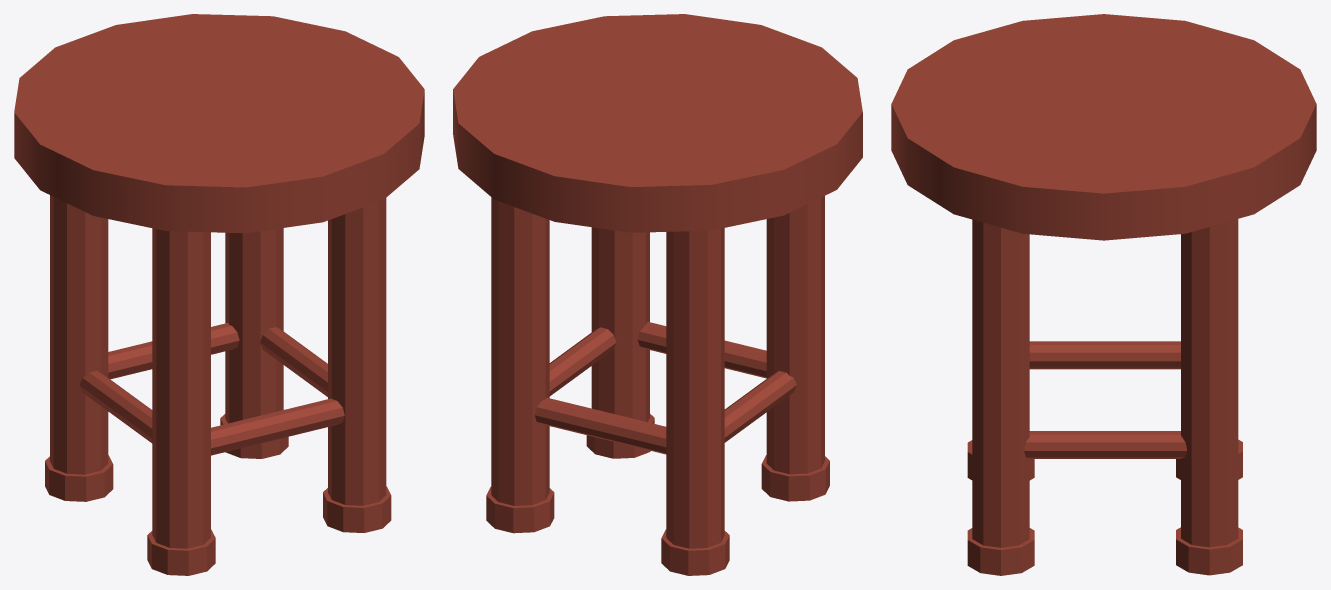
The model's file is Tabouret.glb.
The picture shows the model from 3 angles, left to right: view 1: azimuth 30°, elevation 25°; view 2: azimuth 150°, elevation 25°; view 3: azimuth 270°, elevation 25°; orthographic projection. The views are drawn at different scales.
Visible parts, largest first — view 1: Cylinder007; view 2: Cylinder007; view 3: Cylinder007.
Boxes of the visible parts, x1,y1,x2,y2 form: Cylinder007: (14, 14, 424, 575); Cylinder007: (453, 14, 862, 575); Cylinder007: (891, 14, 1316, 575).
Size of the model in its own units: 0.423 by 0.454 by 0.423.
